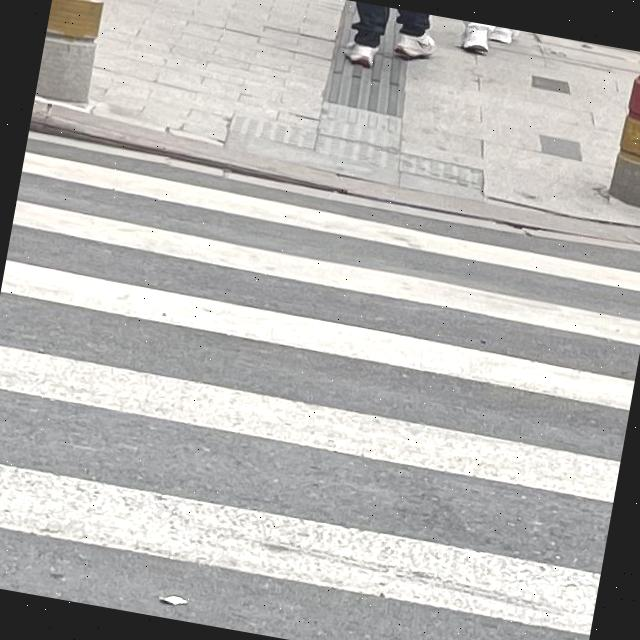curb: (31, 101, 640, 248)
